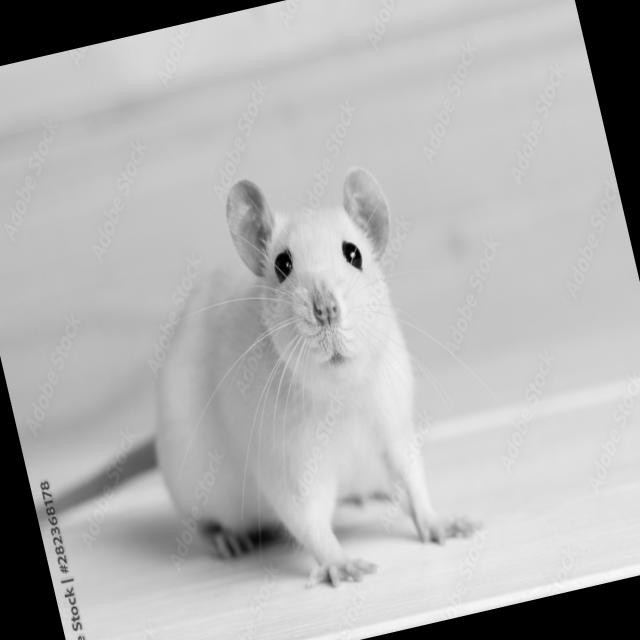rodents: (100, 136, 499, 614)
